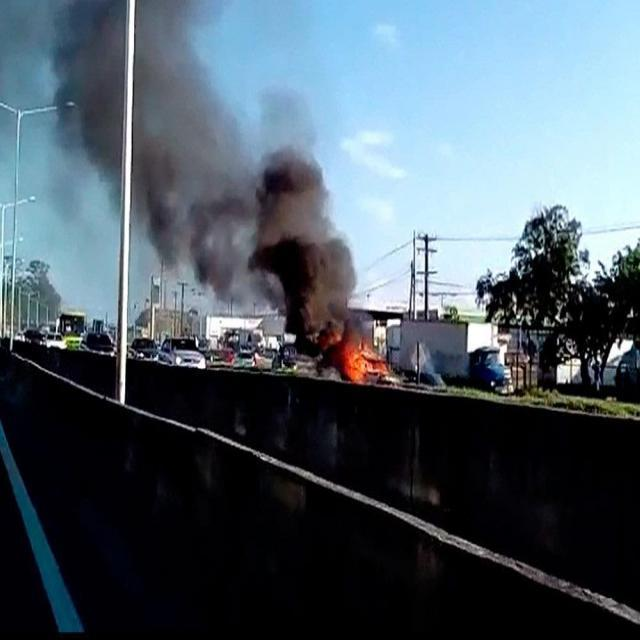Fire: (334, 332, 367, 392)
